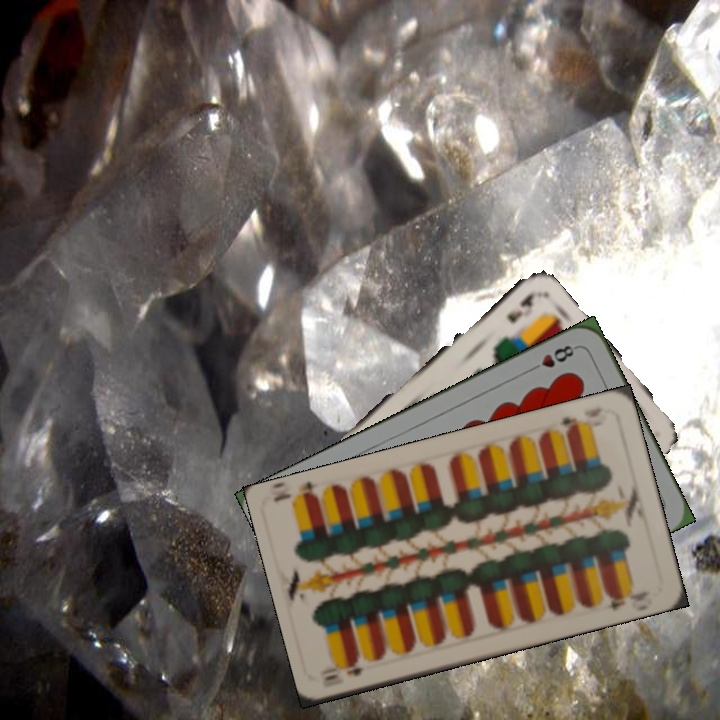E10: (318, 657, 365, 684), (556, 412, 591, 437)
EK: (502, 290, 536, 326)
H8: (525, 341, 580, 375)
